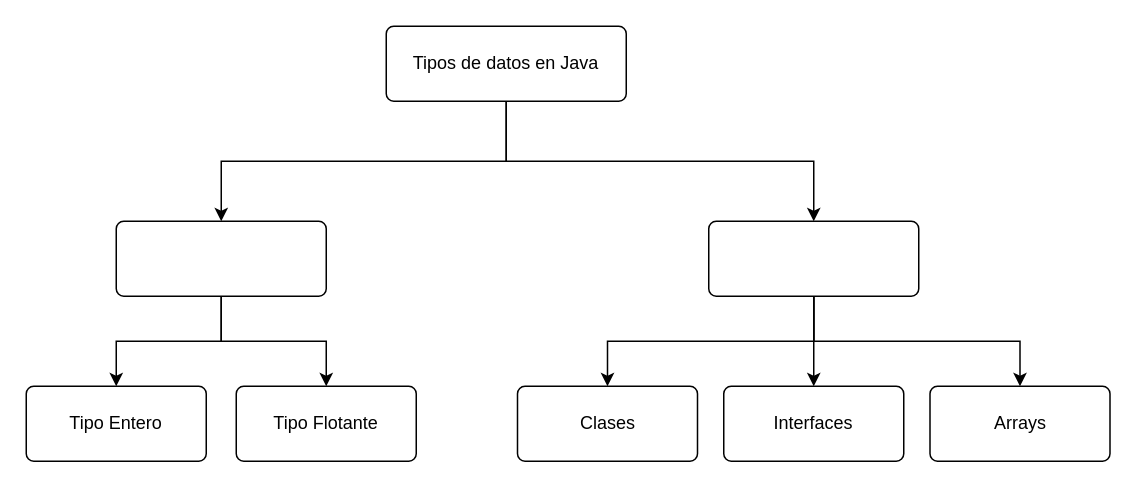
The diagram is 1137 pixels wide and 488 high, and some of its shapes have lost their labels. The shapes that lost their labels are listed below. From the top down, each one's box as (x1, y1, x2, y2) in pixels, then its label:
(115, 220, 326, 296): Tipos Primitivos
(707, 220, 919, 296): Tipos Referenciados (Object)
